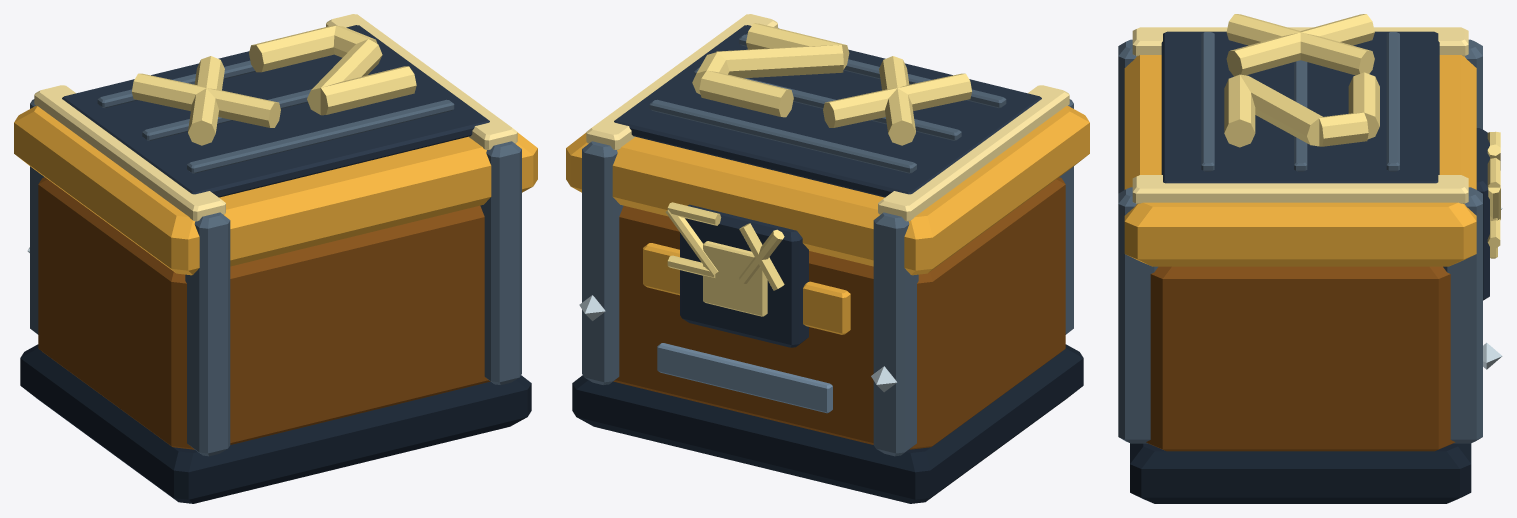
Rendered from S2_X2Chest.obj.
3 renders of one model, left to right at view 1: azimuth 30°, elevation 25°; view 2: azimuth 150°, elevation 25°; view 3: azimuth 270°, elevation 25°, orthographic. The views are drawn at different scales.
Parts seen in each view (by area): view 1: MainCase_2, CarapaceLid_3, ReinforcedBottom_1, LidTopContrast_4, CornerBoltBack_6, CornerBoltBack_11, LidStripe_7, RuneX1_21, MetalBand_20, Rune2_3_26, LidStripe_12, Rune2_0_23 (+6 smaller); view 2: MainCase_2, CarapaceLid_3, ReinforcedBottom_1, LidTopContrast_4, CornerBoltFront_5, FrontHingePlate_15, CornerBoltFront_10, FrontLowerGrille_17, LidStripe_7, RuneX2_22, FrontLockGlow_16, MetalBand_18 (+15 smaller); view 3: MainCase_2, CarapaceLid_3, LidTopContrast_4, ReinforcedBottom_1, LidStripe_12, CornerBoltBack_11, CornerBoltFront_10, RuneX1_21, RuneX2_22, Rune2_2_25, LidStripe_7, MetalBand_20 (+8 smaller).
Boxes of the visible parts, box(x1,y1,x2,y2) form: MainCase_2: box(38, 177, 490, 449); CarapaceLid_3: box(14, 106, 537, 275); ReinforcedBottom_1: box(20, 344, 531, 503); LidTopContrast_4: box(62, 25, 489, 197); CornerBoltBack_6: box(185, 212, 230, 456); CornerBoltBack_11: box(480, 141, 521, 384); LidStripe_7: box(34, 85, 225, 221); RuneX1_21: box(131, 73, 280, 127); MetalBand_20: box(187, 99, 454, 173); Rune2_3_26: box(320, 66, 416, 115); LidStripe_12: box(326, 14, 517, 149); Rune2_0_23: box(249, 25, 335, 72); MainCase_2: box(613, 177, 1065, 449); CarapaceLid_3: box(566, 106, 1089, 275); ReinforcedBottom_1: box(572, 344, 1083, 503); LidTopContrast_4: box(614, 25, 1041, 197); CornerBoltFront_5: box(873, 212, 918, 456); FrontHingePlate_15: box(680, 204, 808, 347); CornerBoltFront_10: box(582, 141, 623, 384); FrontLowerGrille_17: box(657, 343, 832, 413); LidStripe_7: box(878, 85, 1069, 221); RuneX2_22: box(823, 73, 972, 127); FrontLockGlow_16: box(703, 241, 767, 316); MetalBand_18: box(649, 99, 916, 173); MainCase_2: box(1146, 266, 1455, 451); CarapaceLid_3: box(1124, 55, 1476, 266); LidTopContrast_4: box(1161, 31, 1439, 183); ReinforcedBottom_1: box(1130, 443, 1471, 503); LidStripe_12: box(1132, 175, 1468, 203); CornerBoltBack_11: box(1118, 187, 1157, 443); CornerBoltFront_10: box(1443, 187, 1482, 443); RuneX1_21: box(1226, 14, 1374, 76); RuneX2_22: box(1226, 14, 1374, 75); Rune2_2_25: box(1240, 74, 1322, 146); LidStripe_7: box(1132, 27, 1468, 56); MetalBand_20: box(1201, 32, 1214, 171).
Size of the model in its own units: 1.66 by 1.47 by 1.45.
